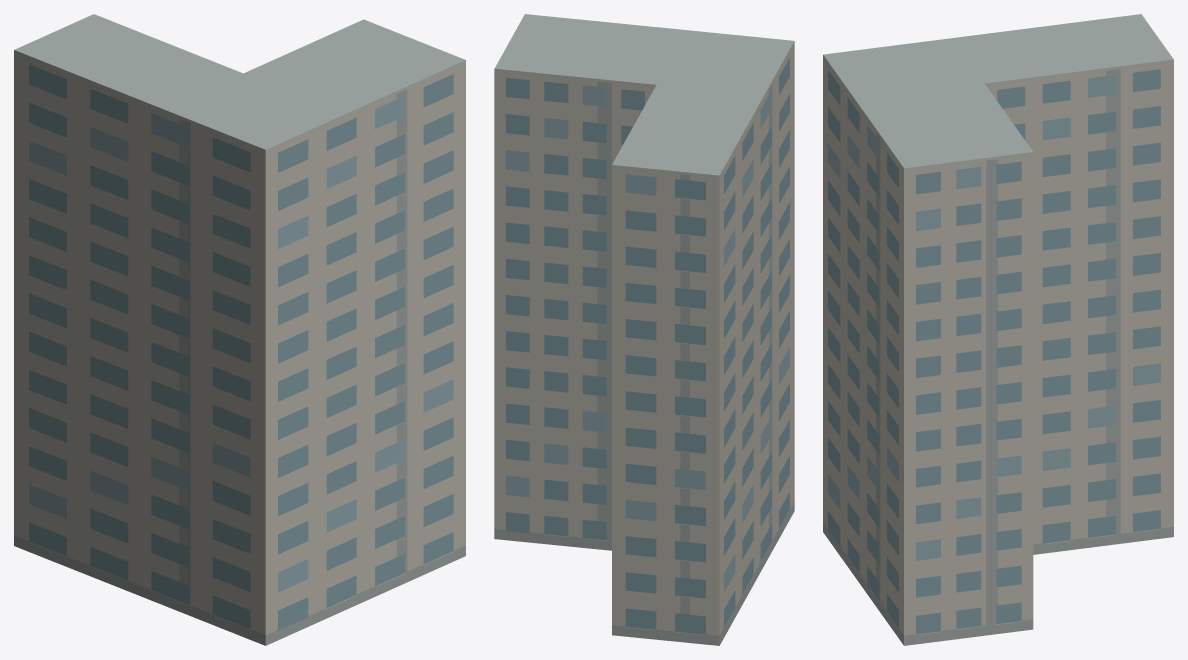
File: residential-95465840-f221-4791-b247-917e90f577b0.glb
3 renders of one model, left to right at view 1: azimuth 30°, elevation 25°; view 2: azimuth 150°, elevation 25°; view 3: azimuth 270°, elevation 25°, orthographic. The views are drawn at different scales.
Parts seen in each view (by area): view 1: residential-95465840-f221-4791-b247-917e90f577b0.tmp; view 2: residential-95465840-f221-4791-b247-917e90f577b0.tmp; view 3: residential-95465840-f221-4791-b247-917e90f577b0.tmp.
Part boxes in pixels (x1,y1,x2,y2): residential-95465840-f221-4791-b247-917e90f577b0.tmp: (14, 14, 465, 645); residential-95465840-f221-4791-b247-917e90f577b0.tmp: (494, 14, 794, 645); residential-95465840-f221-4791-b247-917e90f577b0.tmp: (823, 14, 1173, 645).
Size of the model in its own units: 29.12 by 42 by 27.96.
